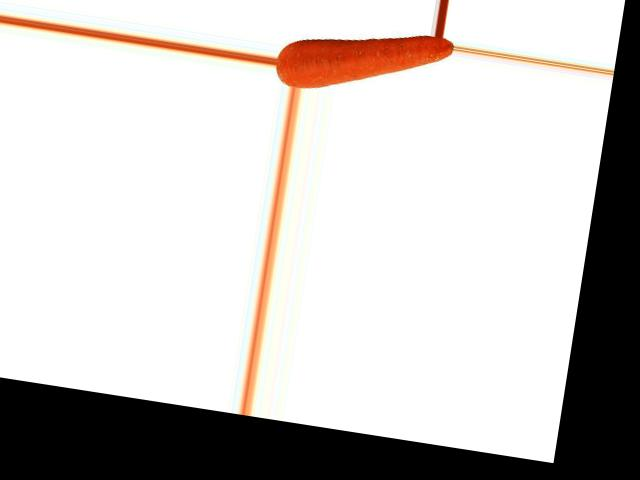carrot: (272, 13, 452, 109)
